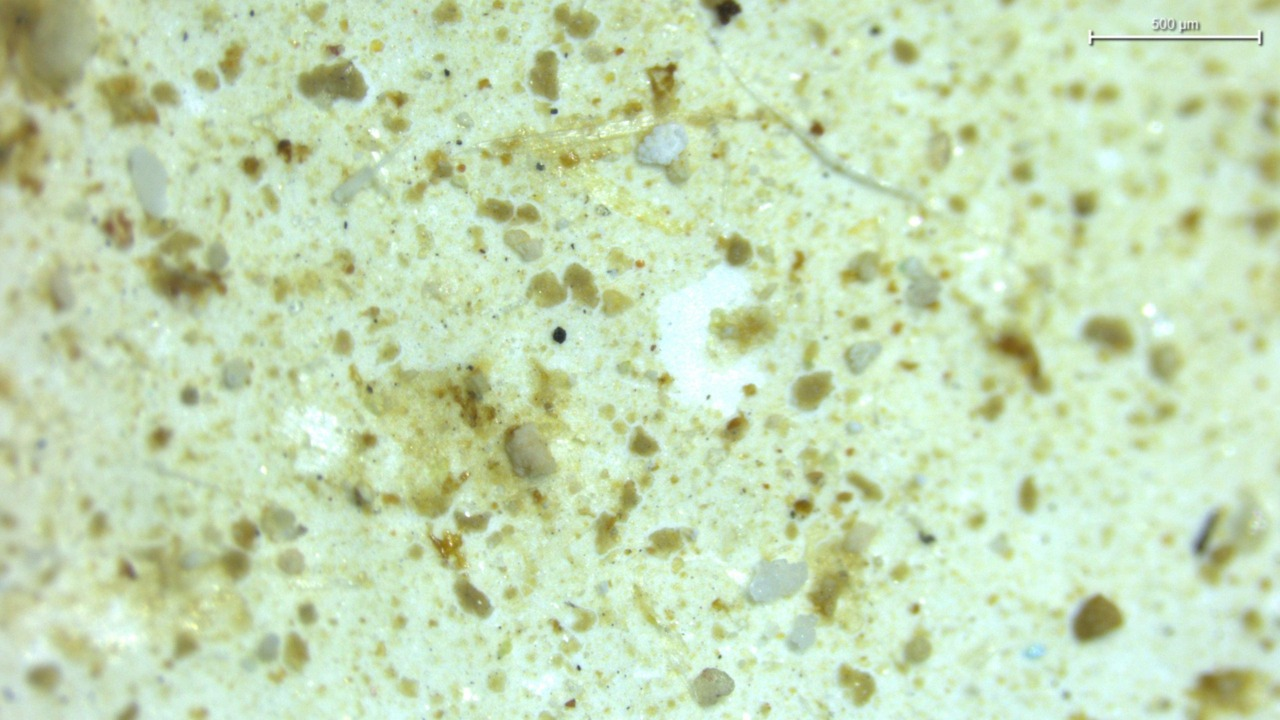microplastic_fragment: (505, 423, 556, 478), (750, 559, 808, 602), (637, 122, 687, 166), (845, 341, 882, 374), (787, 613, 819, 651)
